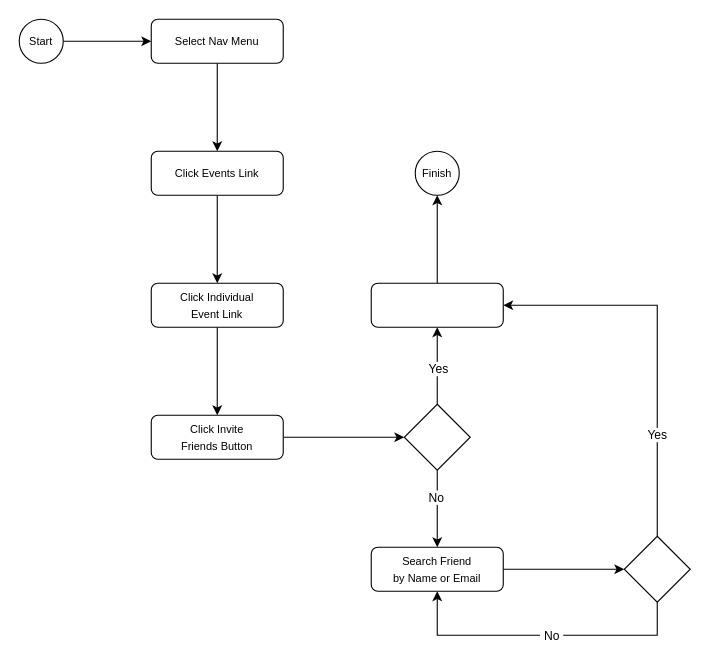
This 710x663 diagram has some shape labels left out. The box of each missing label's shape, as (x1, y1, x2, y2) in pixels:
Click Add Button next to Friend: (370, 282, 503, 327)
Friend Found?: (623, 535, 690, 602)
Friend Visible?: (403, 403, 470, 470)
